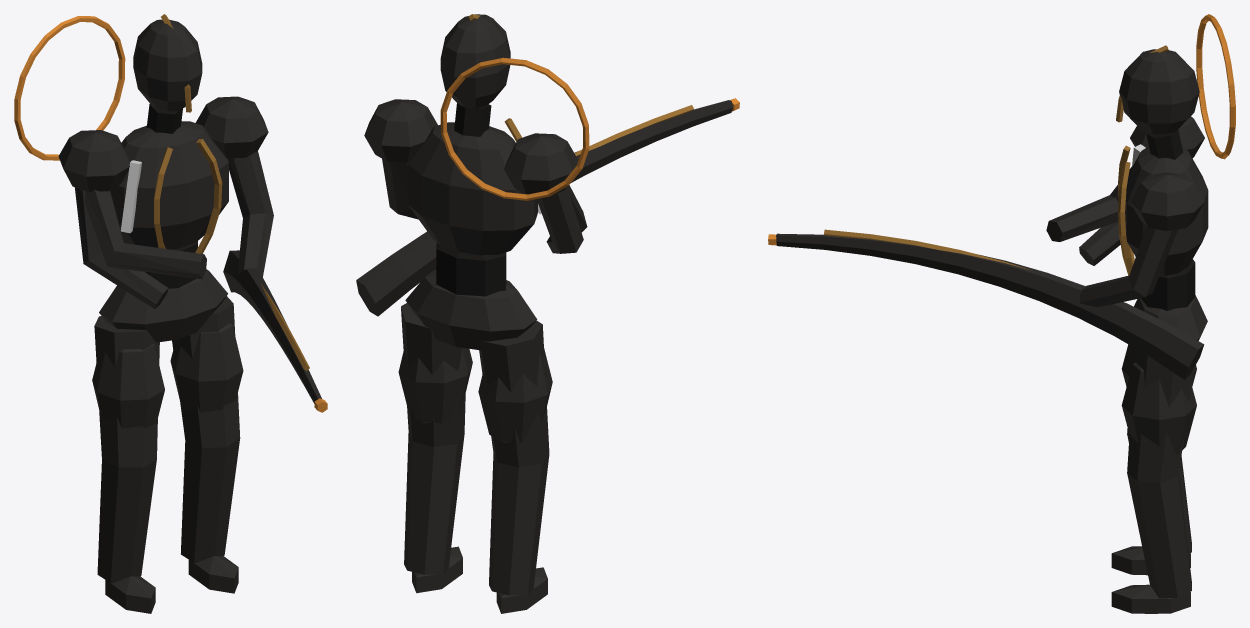
File: infantry.glb
3 views of the same model, side by side, from view 1: azimuth 30°, elevation 25°; view 2: azimuth 150°, elevation 25°; view 3: azimuth 270°, elevation 25° (orthographic). The views are drawn at different scales.
Visible parts, largest first — view 1: body; view 2: body; view 3: body.
Boxes of the visible parts, x1=… form: body: x1=14, y1=14, x2=327, y2=613; body: x1=356, y1=14, x2=739, y2=613; body: x1=768, y1=14, x2=1235, y2=613.
Size of the model in its own units: 0.9516 by 2.25 by 1.74.
